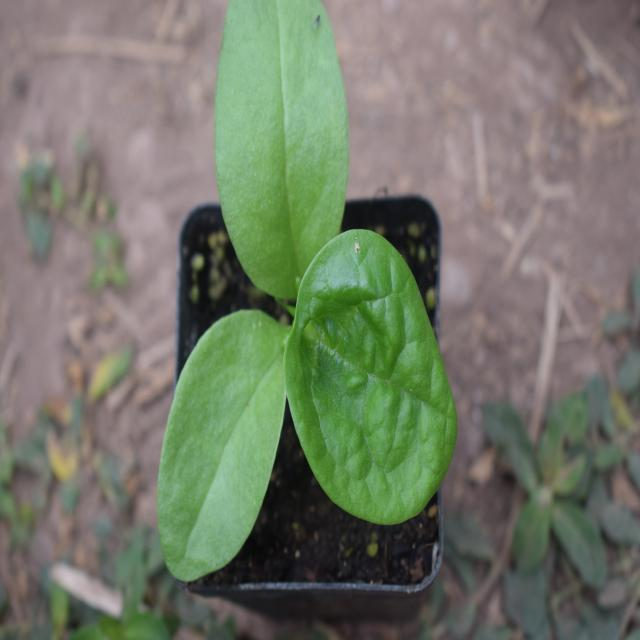Ceylon spinach: (160, 8, 449, 576)
